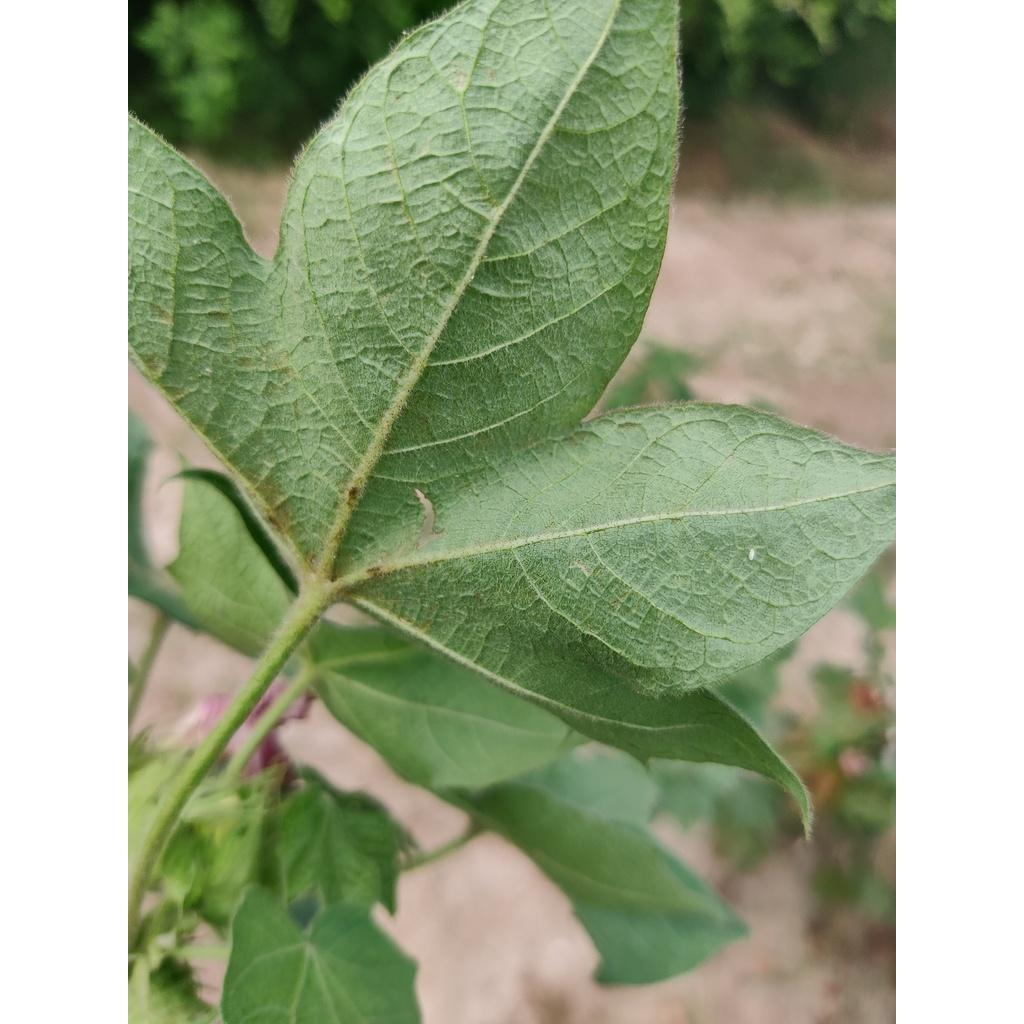adult: (748, 548, 757, 561)
